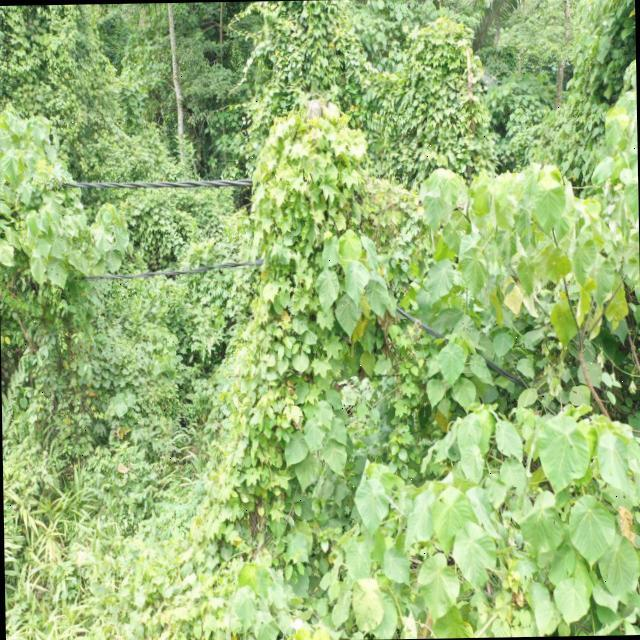critical vegetation: (228, 84, 407, 478)
